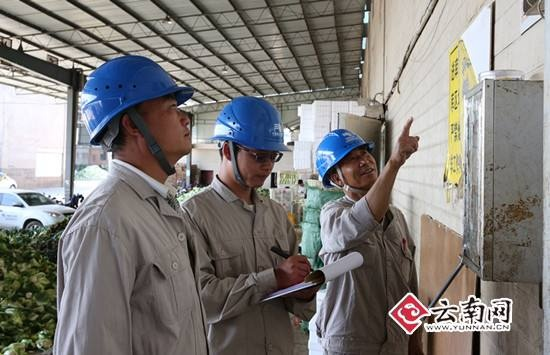blue: (77, 53, 199, 185), (210, 98, 284, 187), (314, 127, 380, 198)
